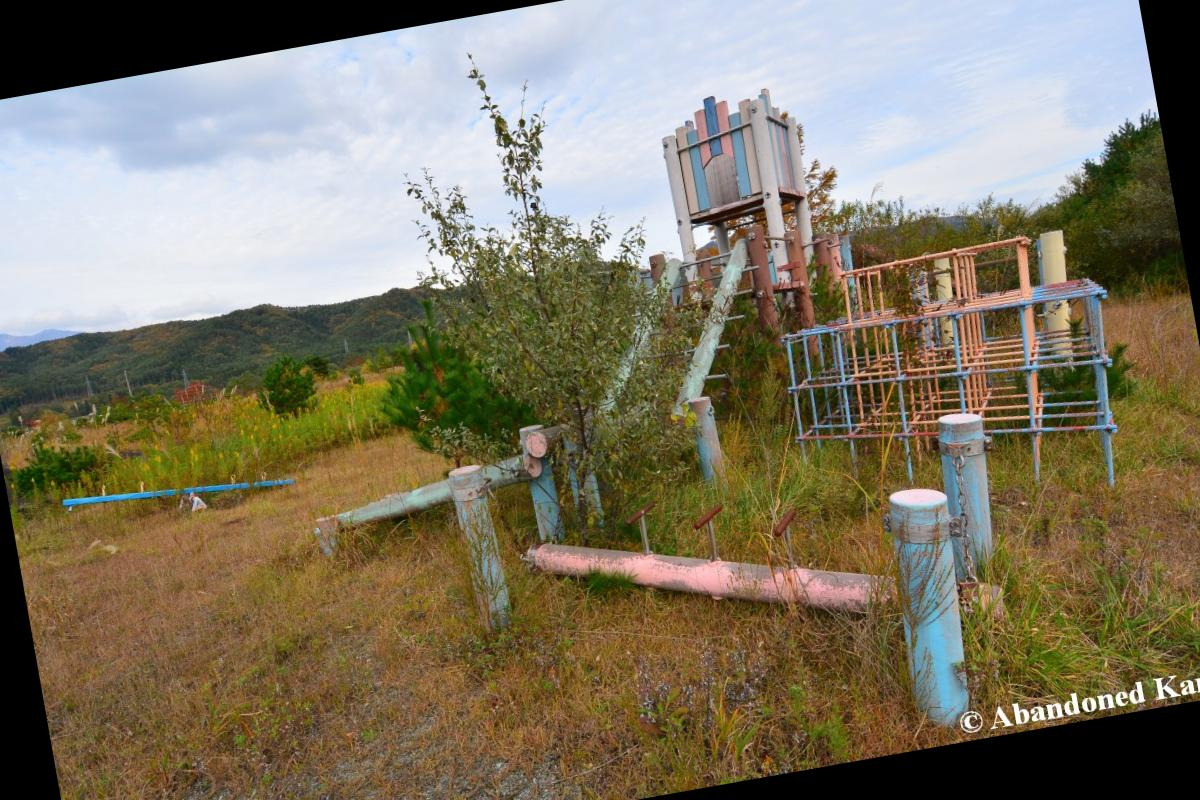overgrown grass: (13, 380, 955, 800), (969, 296, 1200, 704)
